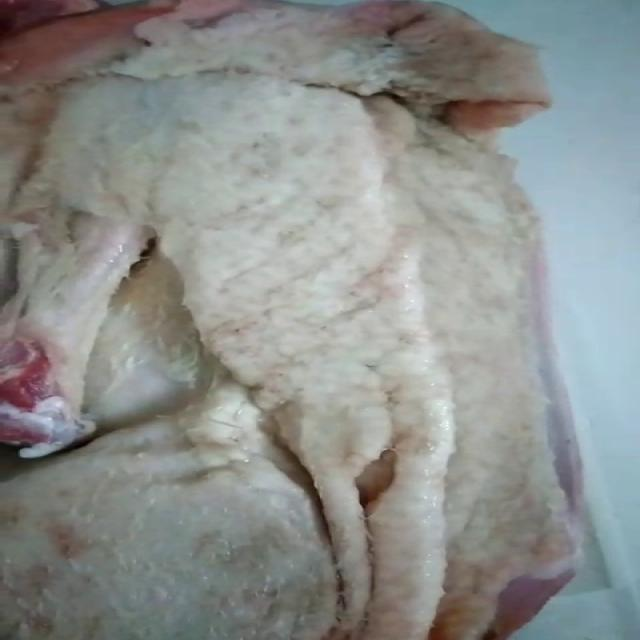chicken: (0, 0, 586, 638)
